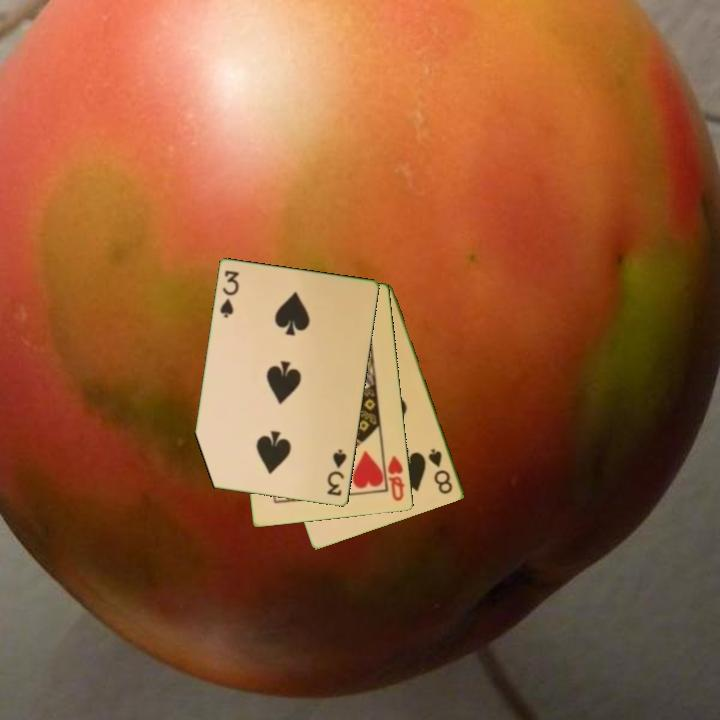3s: (216, 267, 242, 321), (324, 446, 350, 499)
8s: (425, 445, 456, 497)
Qh: (381, 450, 408, 504)
